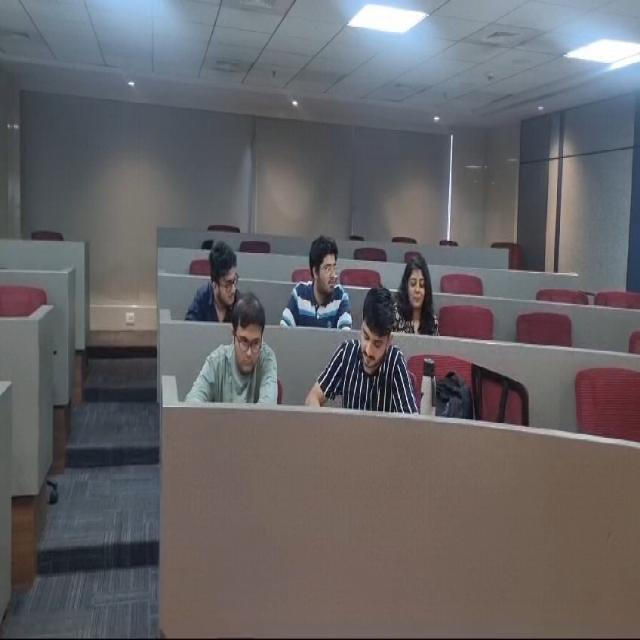cheating: (210, 284, 282, 400), (290, 230, 354, 327), (196, 233, 248, 318)
non-cheating: (337, 282, 420, 416), (398, 240, 444, 346)
